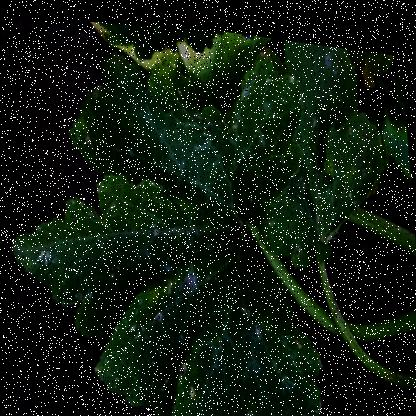PowderyMildew: (91, 197, 240, 336), (167, 255, 289, 416), (135, 89, 265, 222)
